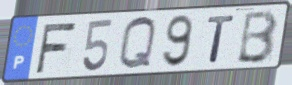5: (81, 17, 115, 73)
9: (161, 13, 196, 70)
B: (234, 8, 280, 65)
F: (34, 20, 79, 75)
Q: (117, 15, 158, 73)
T: (206, 13, 237, 64)
